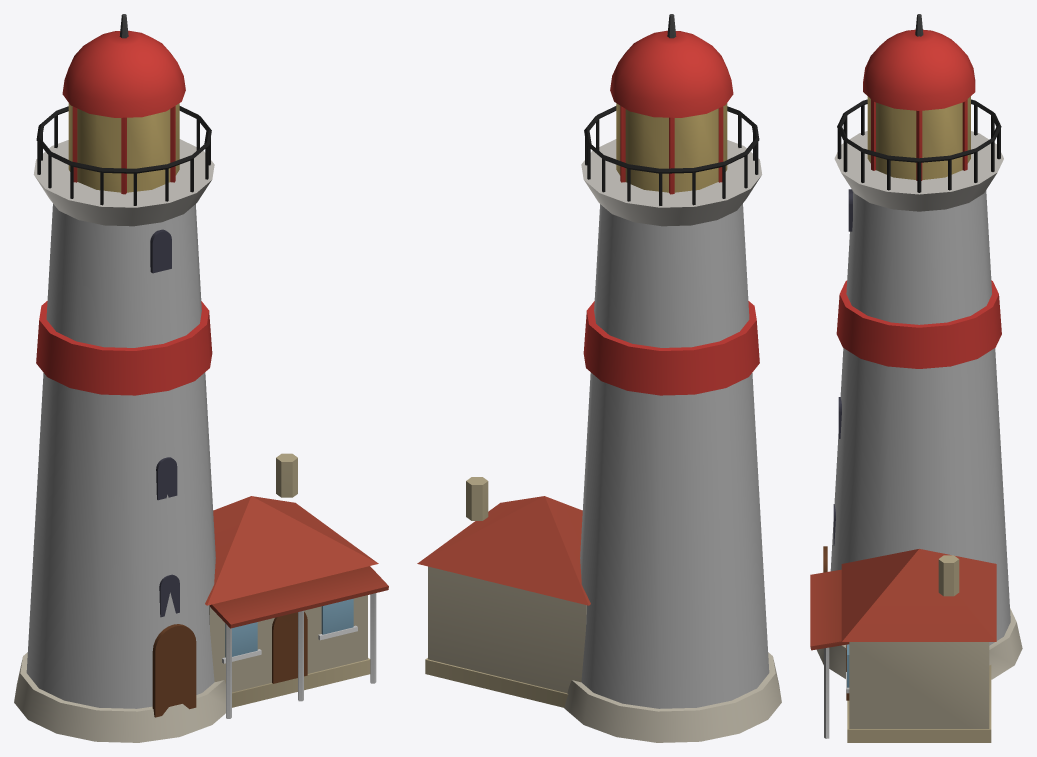
Rendered from lm-s2au-perth.glb.
The picture shows the model from 3 angles, left to right: view 1: azimuth 30°, elevation 25°; view 2: azimuth 150°, elevation 25°; view 3: azimuth 270°, elevation 25°; orthographic projection. The views are drawn at different scales.
Bounding box in the file's own units: 4.5 × 9.47 × 2.88.
